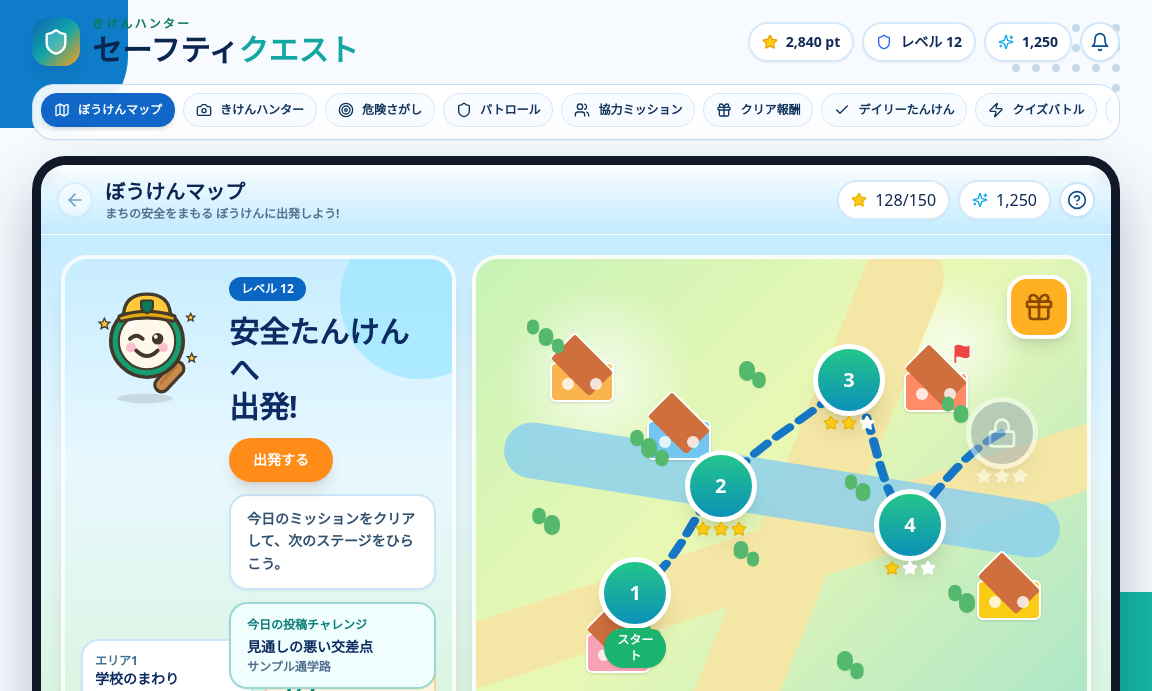
Test: SafetyQuestClient › requires all three hazard markers before the player can continue to quiz battle
The width and height of the screenshot is (1152, 691).
Click the button "出発する" at (281, 460), box [229,438,333,482]
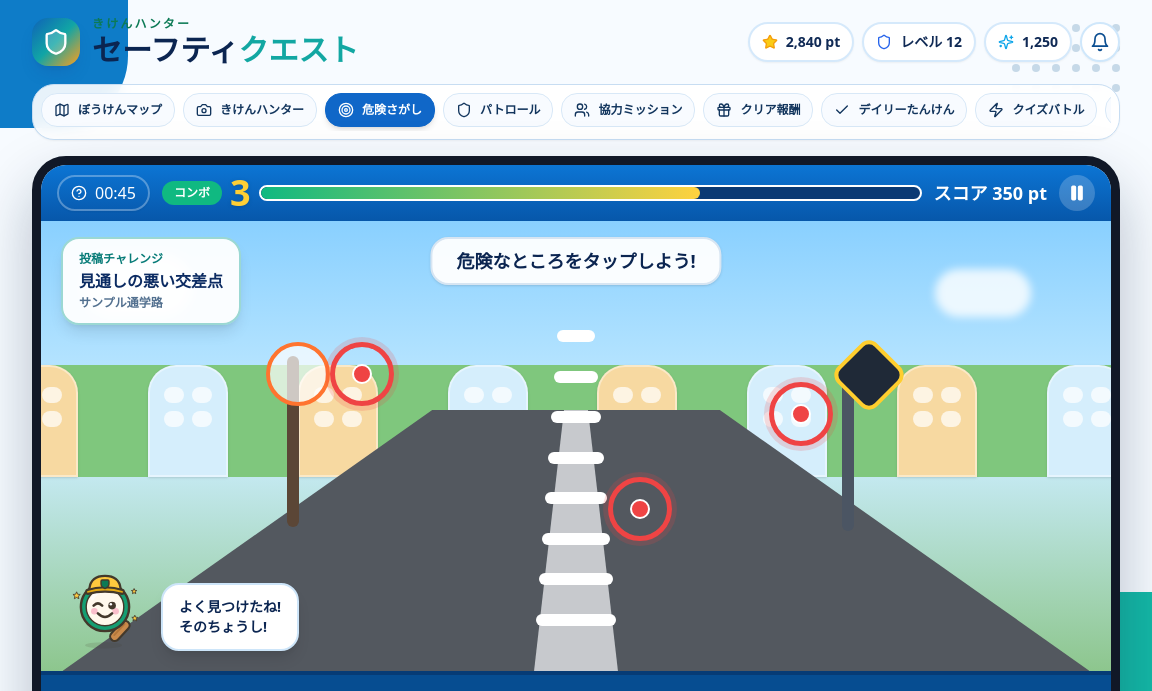
expect the text "危険なところをタップしよう!" is shown: met, box [430,237,722,285]
Click the 1st button named "危険ポイント" at (362, 374), box [330,342,394,406]
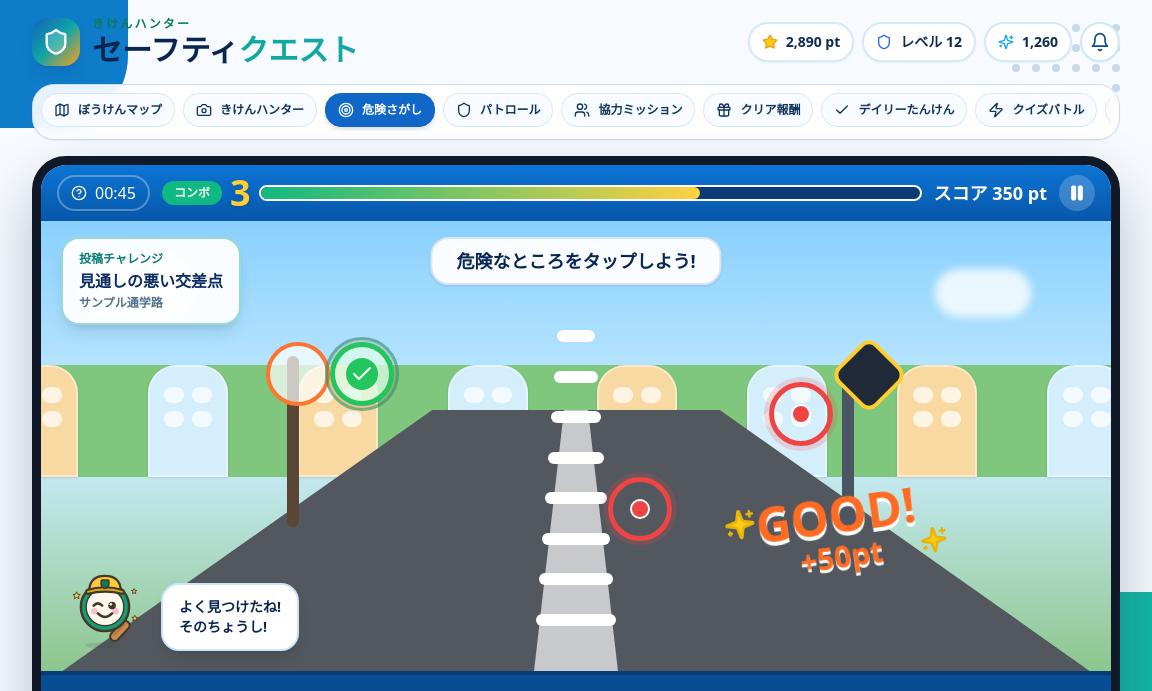
Click the 2nd button named "危険ポイント" at (801, 414), box [769,382,833,446]
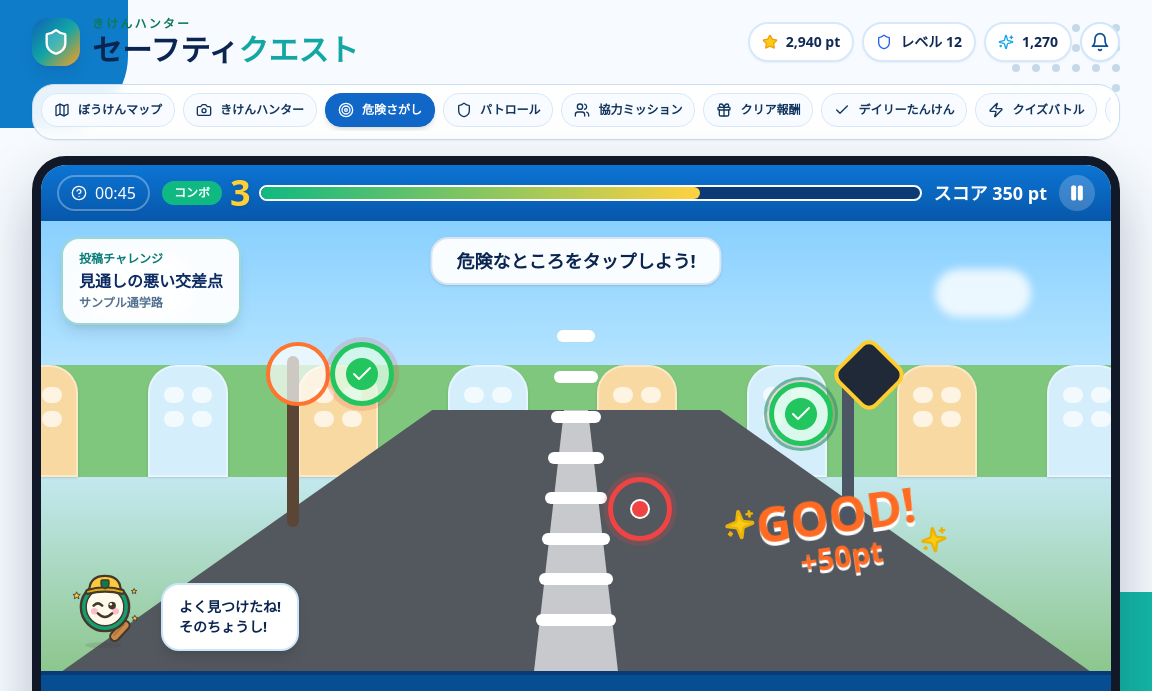
Click the 3rd button named "危険ポイント" at (640, 509), box [608,477,672,541]
(page scrolled)
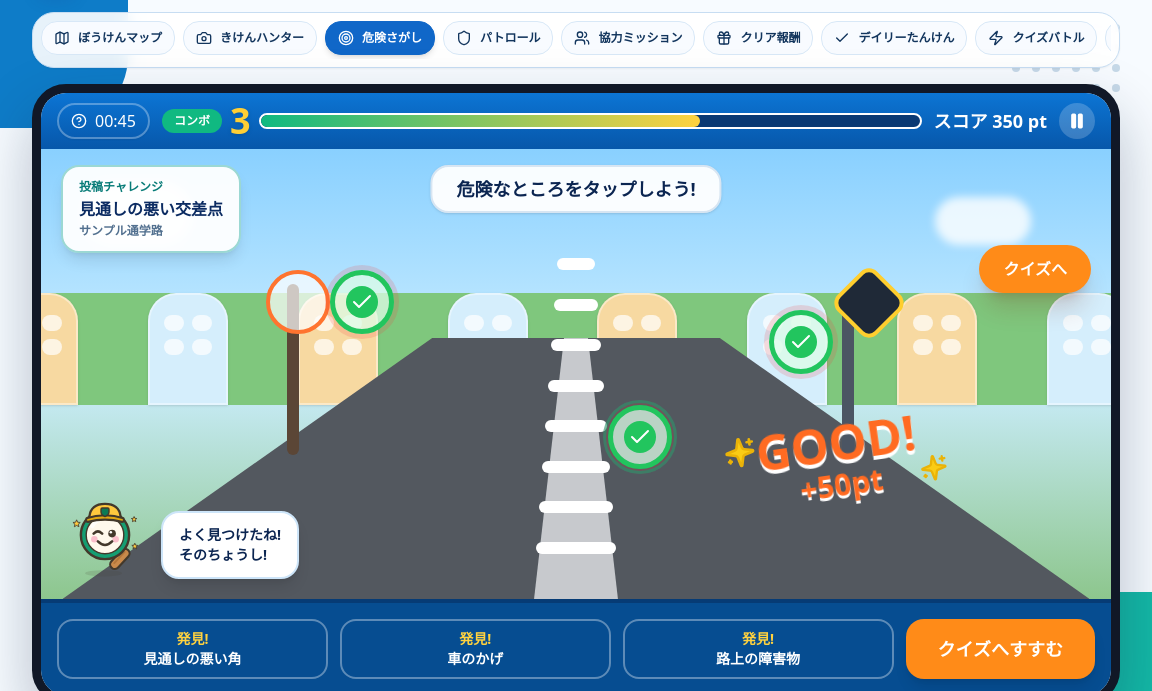
expect the button "クイズへすすむ" is enabled: met, box [906,619,1095,679]
